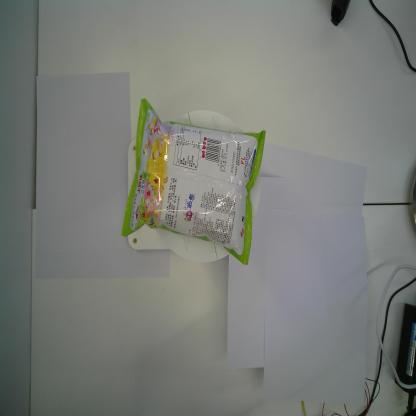Puffed Food: (120, 96, 266, 266)
